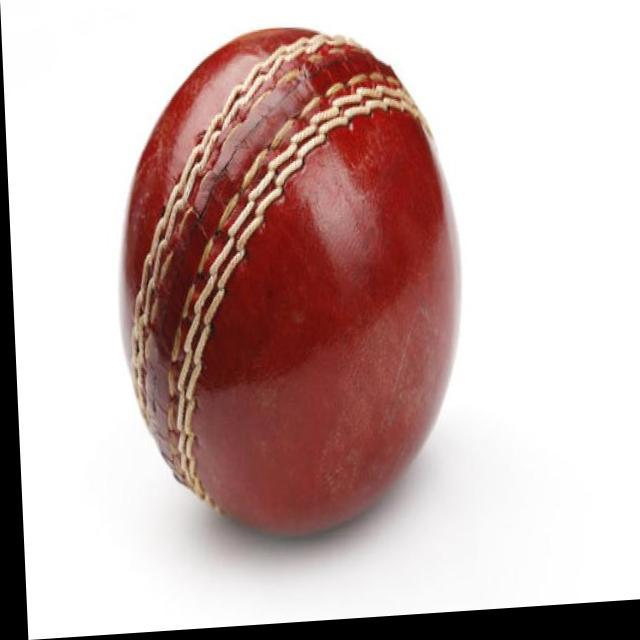cricket ball: (116, 33, 461, 541)
